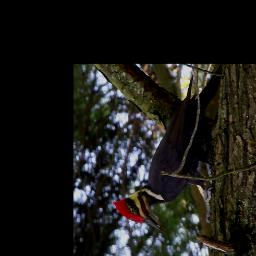Woodpecker: (112, 64, 225, 232)
